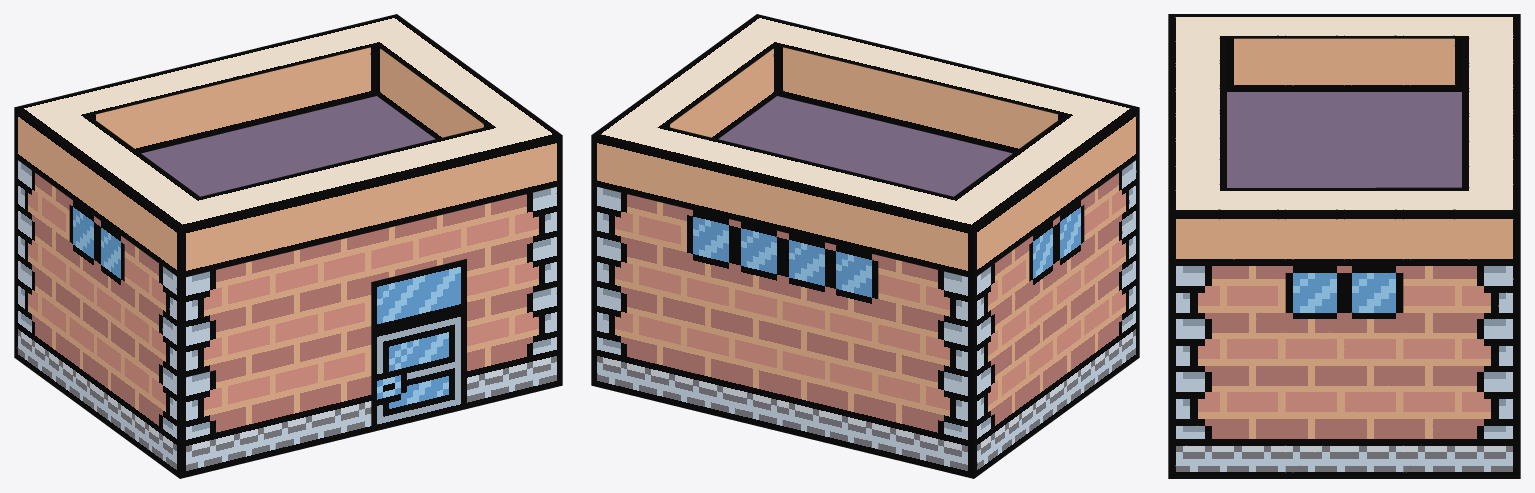
File: Building.gltf
3 views of the same model, side by side, from view 1: azimuth 30°, elevation 25°; view 2: azimuth 150°, elevation 25°; view 3: azimuth 270°, elevation 25° (orthographic). The views are drawn at different scales.
Bounding box in the file's own units: 8 × 5 × 6.
Materials: 1 (1 with a texture image).
